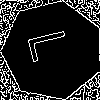L: (27, 25, 79, 63)
